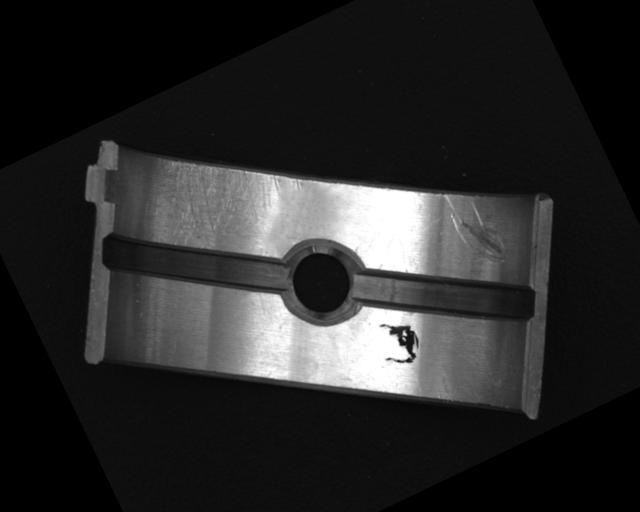blot: (367, 305, 428, 373)
gap: (93, 171, 295, 355), (346, 209, 543, 382)
hole: (265, 225, 379, 339)
nick: (438, 174, 516, 276)
scratch: (119, 106, 312, 271)
